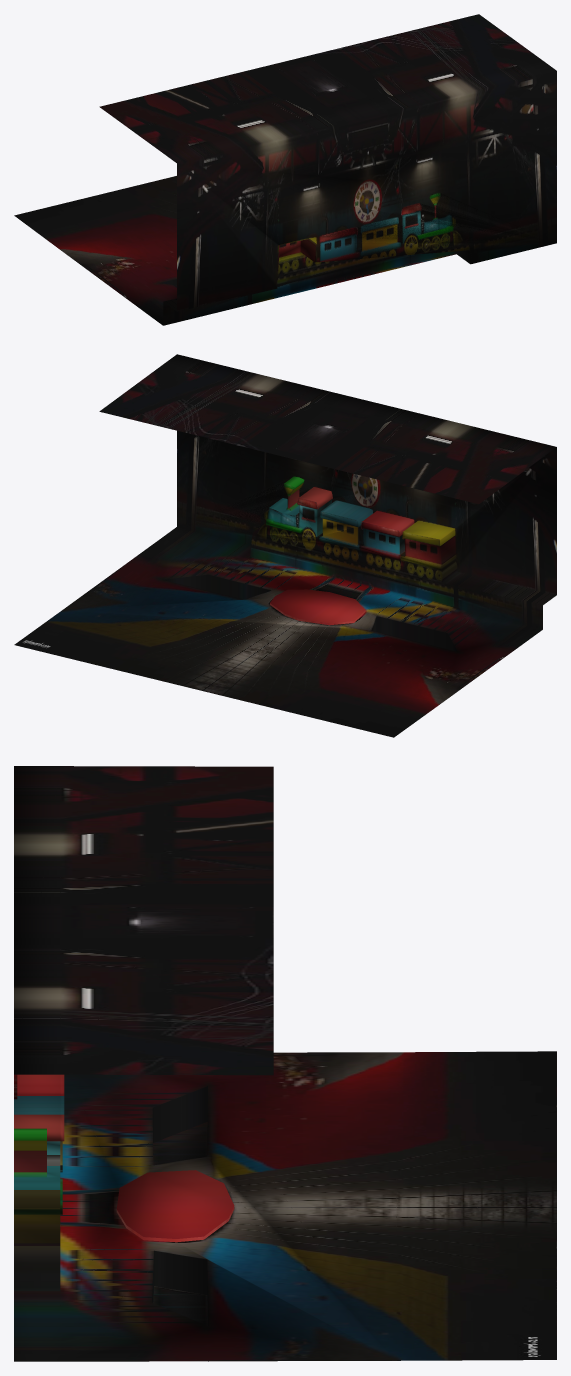
File: san7.fbx
3 views of the same model, one above another, from view 1: azimuth 30°, elevation 25°; view 2: azimuth 150°, elevation 25°; view 3: azimuth 270°, elevation 25° (orthographic). The views are drawn at different scales.
Visible parts, largest first — view 1: Plane.005; view 2: Plane.005; view 3: Plane.005.
Boxes of the visible parts, box(x1,y1,x2,y2) form: Plane.005: box(14, 14, 556, 325); Plane.005: box(14, 354, 556, 737); Plane.005: box(14, 766, 556, 1361).
Size of the model in its own units: 3415 by 1663 by 2540.
Materials: 1 (1 with a texture image).
